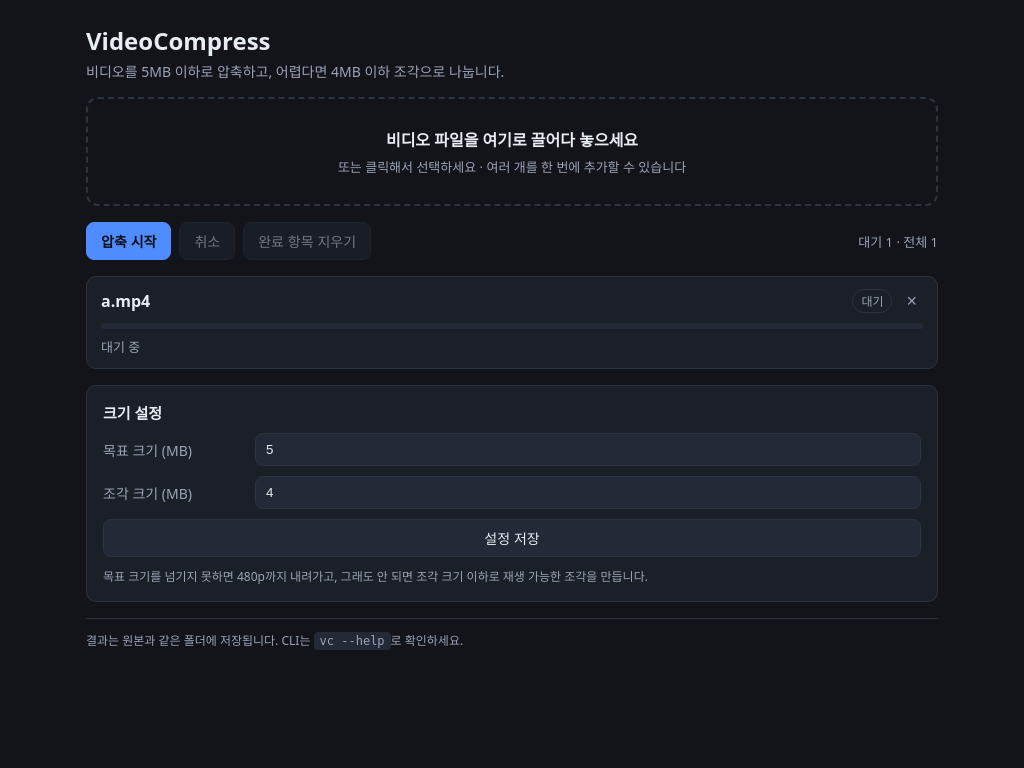
App › starts processing and disables start while running
Expected: the text "a.mp4" is shown, [101,290,150,312]
Click the button "압축 시작". click: (129, 241)
box: [86,222,171,260]
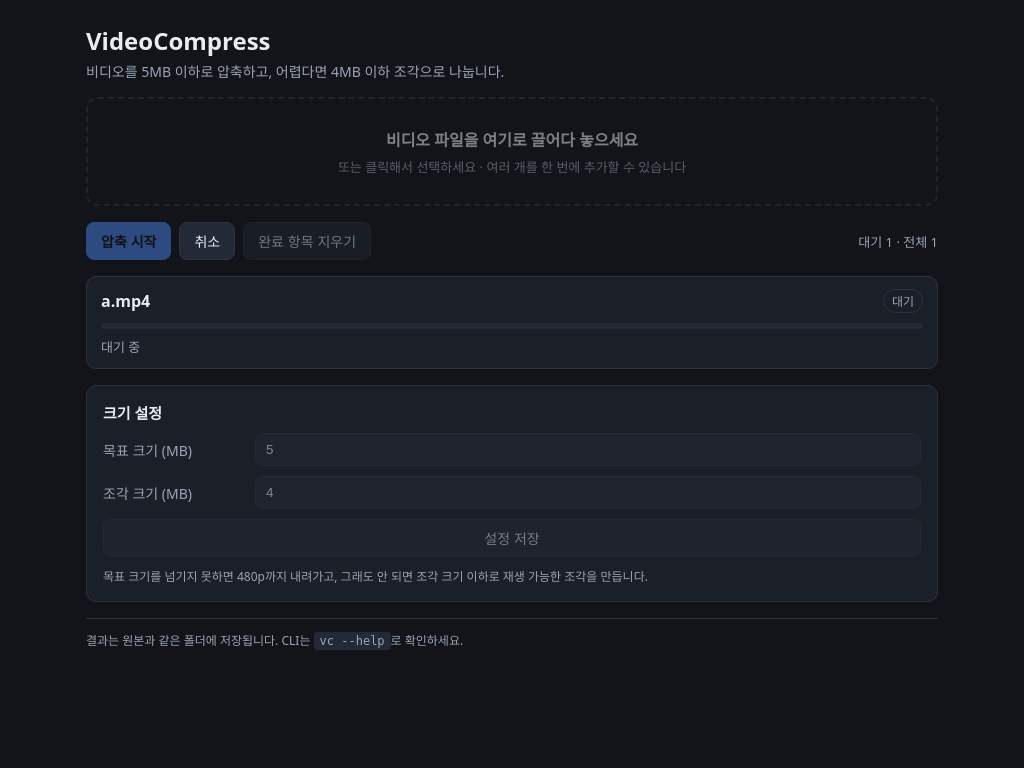
Expected: the button "압축 시작" is disabled, [86,222,171,260]
